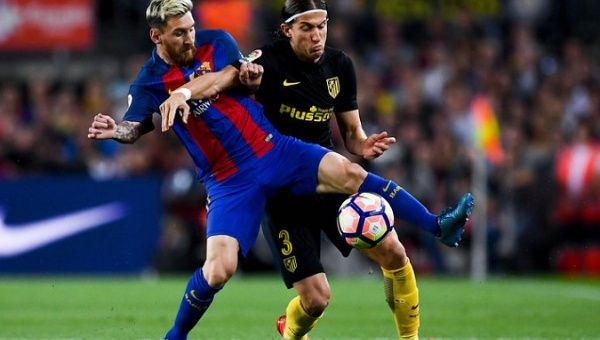soccer player: (88, 1, 468, 340), (236, 1, 423, 339)
soccerball: (329, 190, 399, 250)
